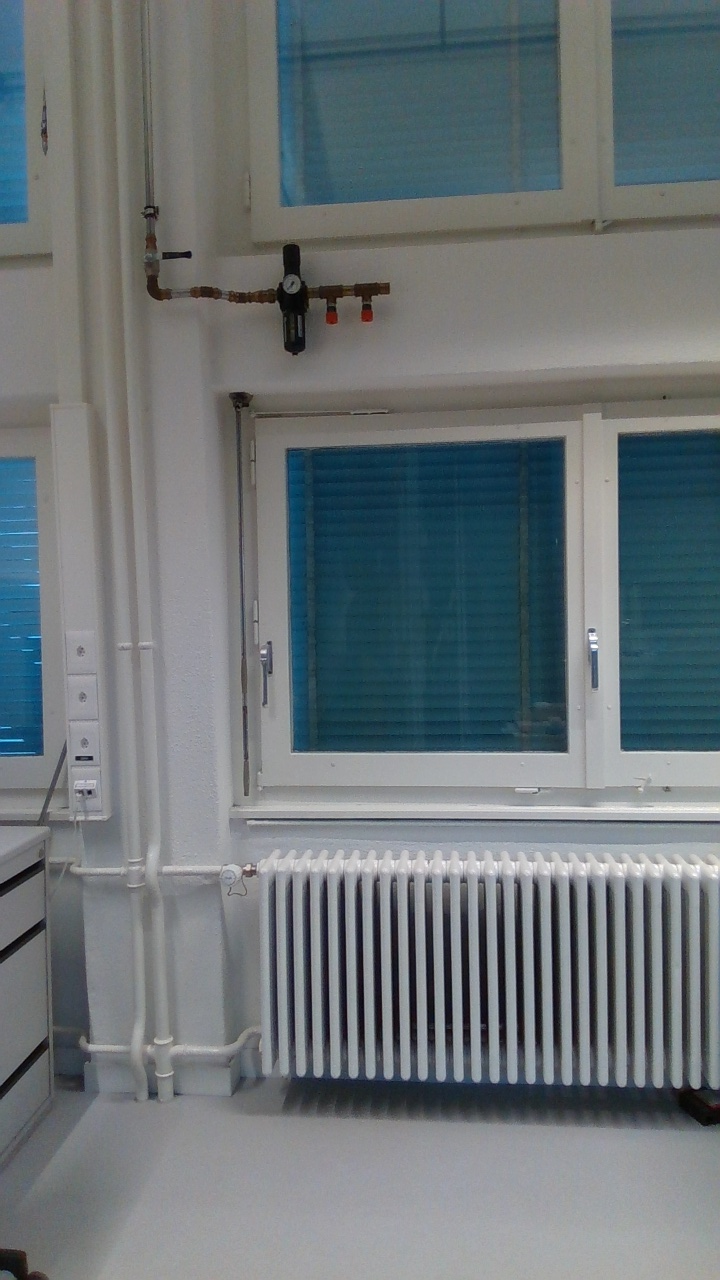Knob_Radiator: (217, 854, 253, 892)
Radiator: (253, 845, 720, 1094)
